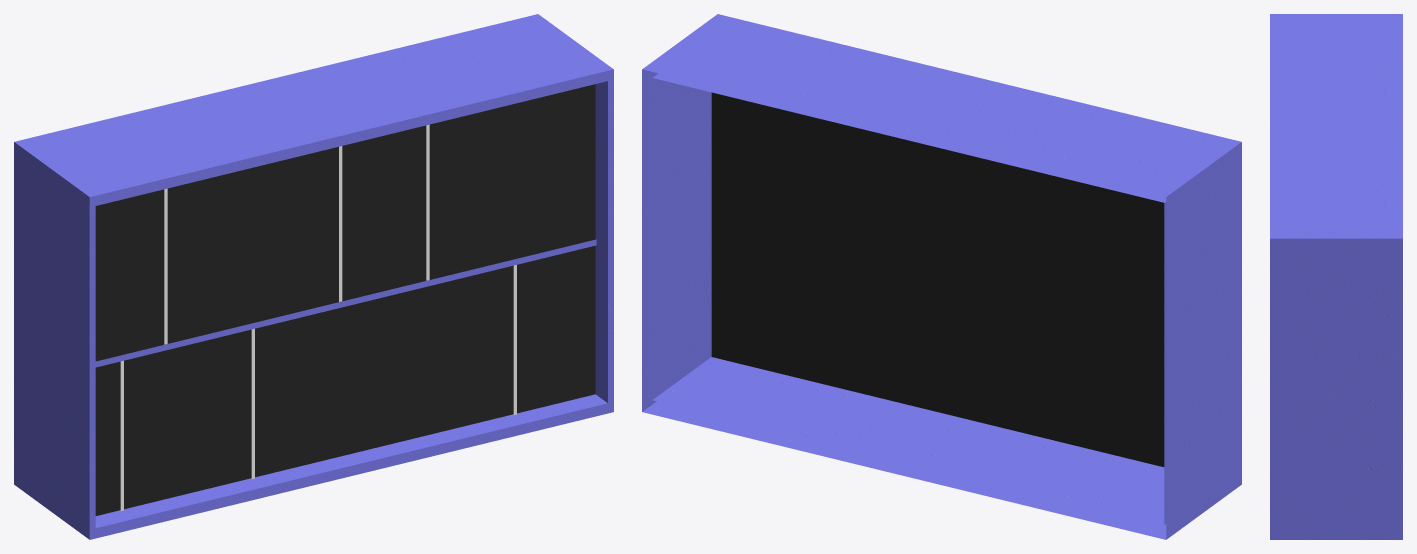
File: Wall_8x5x2_004_L3.fbx
3 views of the same model, side by side, from view 1: azimuth 30°, elevation 25°; view 2: azimuth 150°, elevation 25°; view 3: azimuth 270°, elevation 25° (orthographic). The views are drawn at different scales.
Parts seen in each view (by area): view 1: Wall_8x5x2_004_L3; view 2: Wall_8x5x2_004_L3; view 3: Wall_8x5x2_004_L3.
Boxes of the visible parts, x1=… form: Wall_8x5x2_004_L3: x1=14, y1=14, x2=613, y2=539; Wall_8x5x2_004_L3: x1=642, y1=14, x2=1241, y2=539; Wall_8x5x2_004_L3: x1=1270, y1=14, x2=1402, y2=539.
Size of the model in its own units: 8 by 5 by 2.
